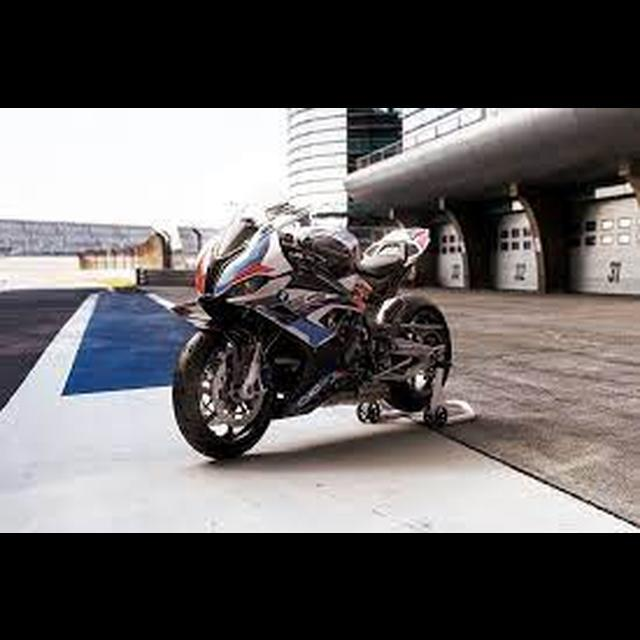motorcycle: (169, 195, 458, 467)
